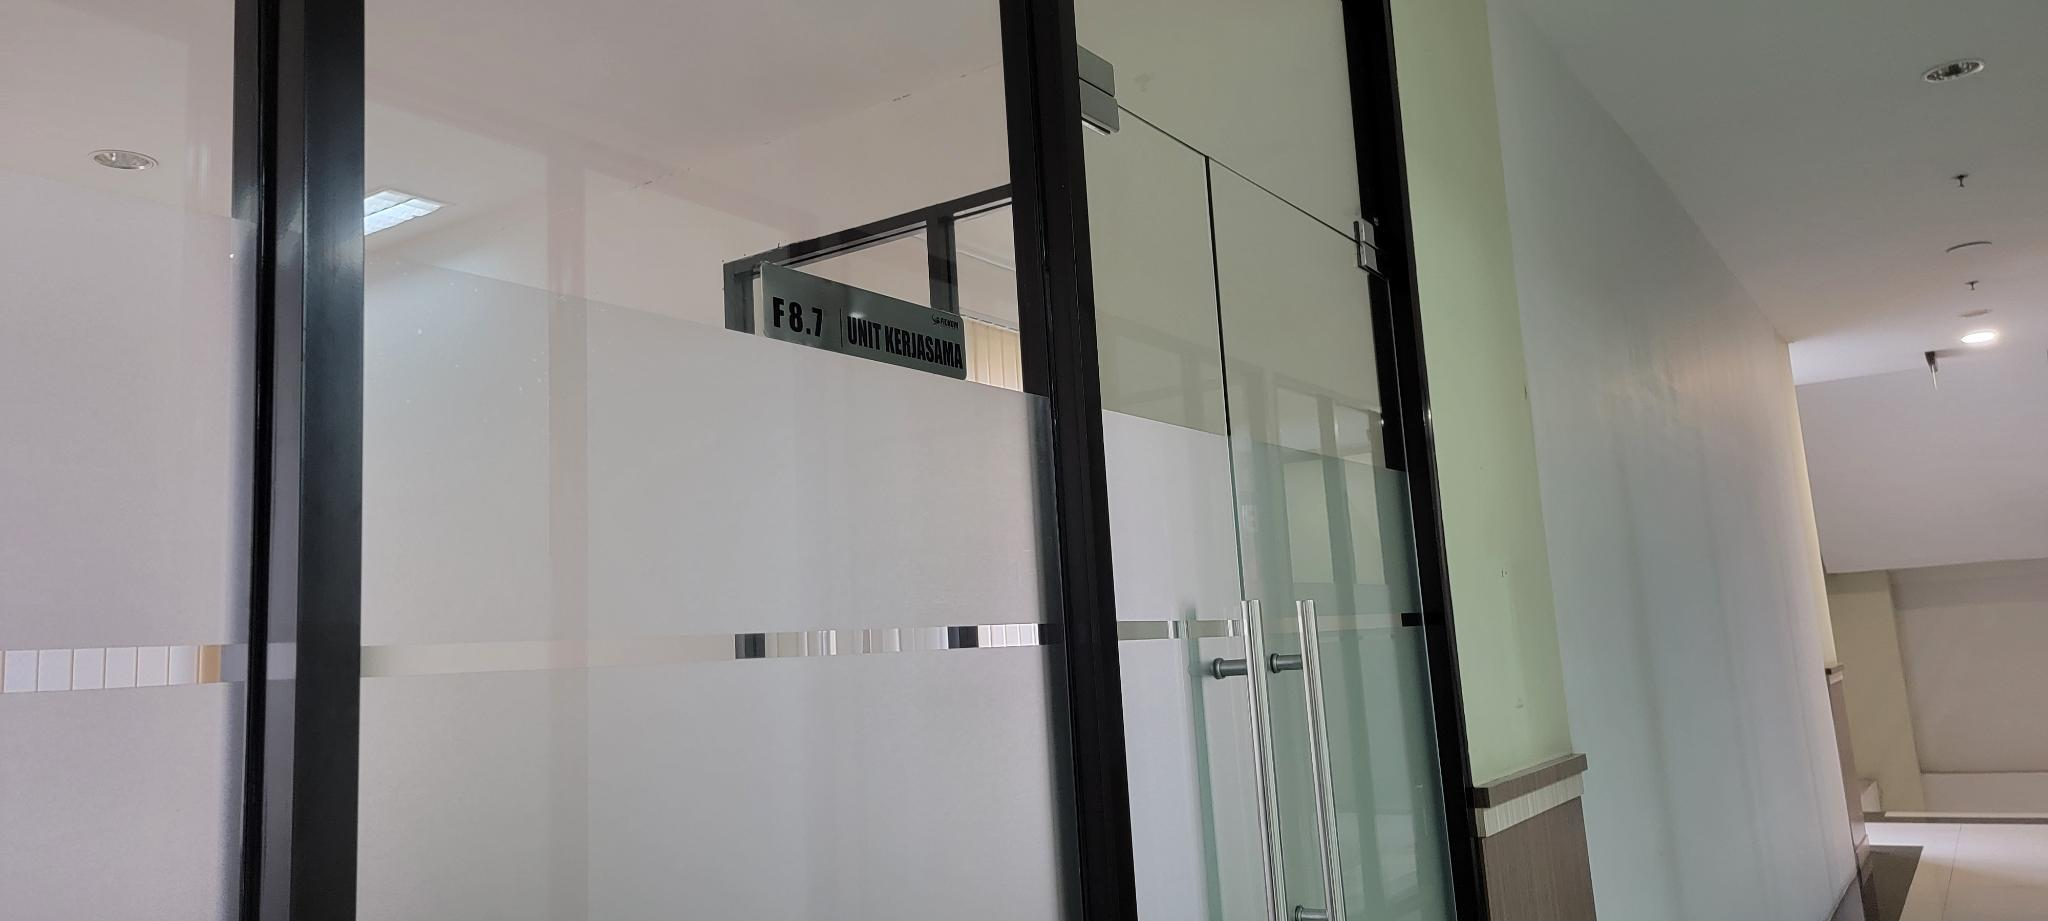plate: (760, 261, 969, 381)
